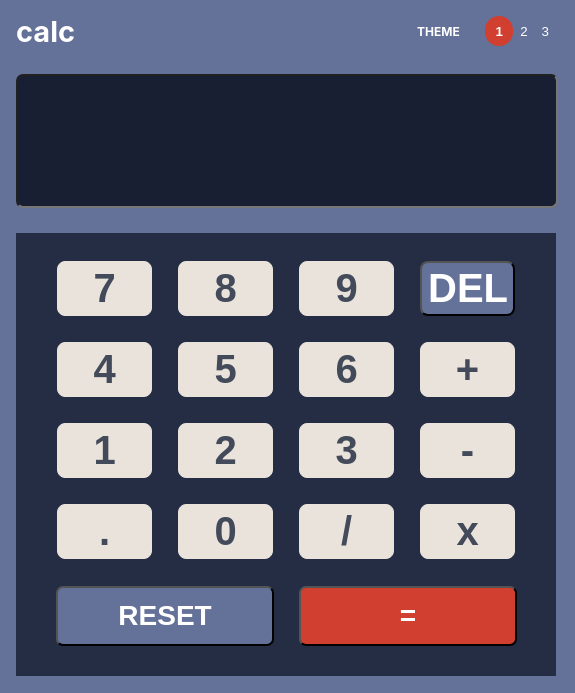
Test: Main › display updates with the number button clicked
The image size is (575, 693).
Click the button "5". click: (226, 370)
box: [178, 342, 273, 397]
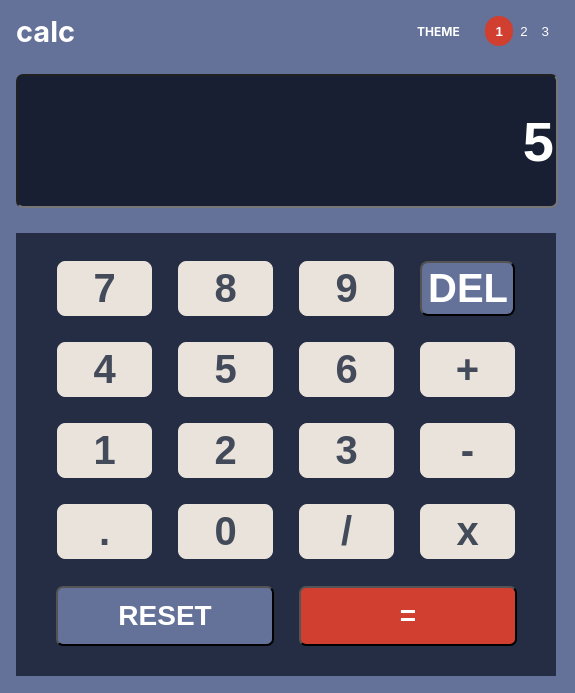
Expected: the field holds "5", [16, 74, 558, 208]
Click the button "6". click: (346, 370)
box: [299, 342, 394, 397]
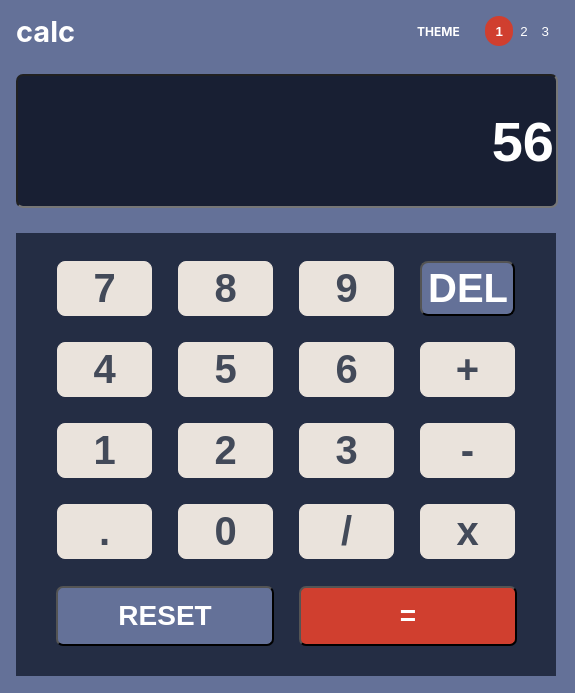
Expected: the field holds "56", [16, 74, 558, 208]
